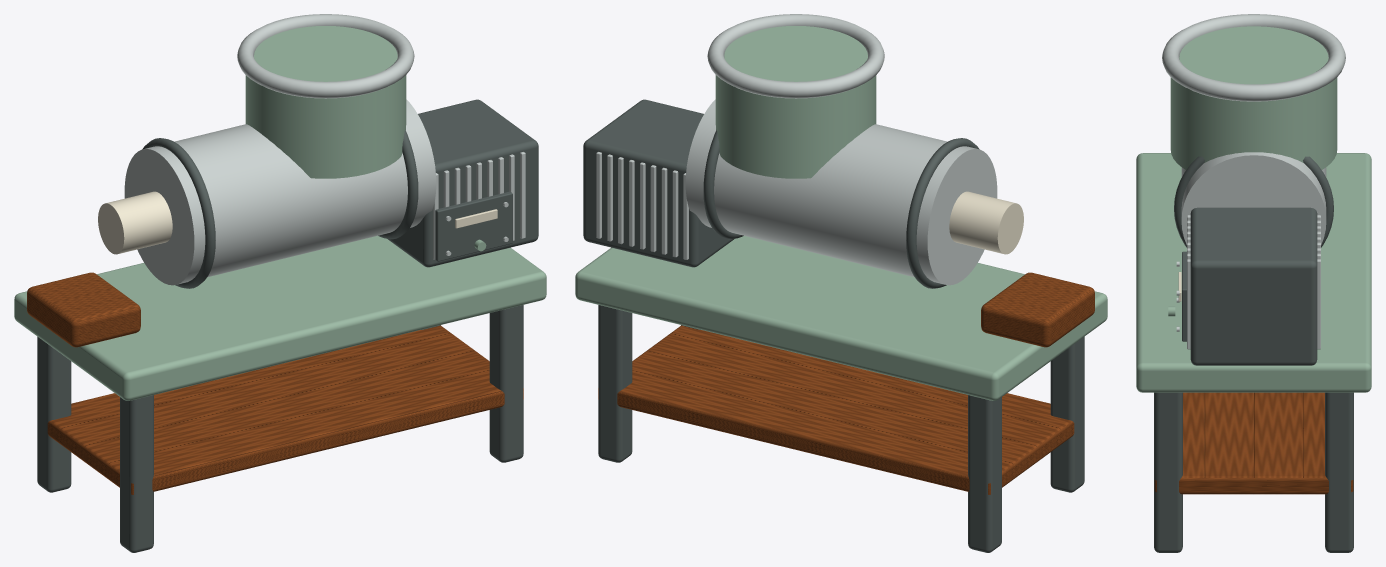
The model's file is ceramics-pottery-studio-clay-pugmill-01957a39__29484.glb.
3 views of the same model, side by side, from view 1: azimuth 30°, elevation 25°; view 2: azimuth 150°, elevation 25°; view 3: azimuth 270°, elevation 25° (orthographic). The views are drawn at different scales.
Visible parts, largest first — view 1: clay-pugmill; view 2: clay-pugmill; view 3: clay-pugmill.
Part boxes in pixels (<box>): clay-pugmill: <box>14,14,546,552</box>; clay-pugmill: <box>575,14,1107,552</box>; clay-pugmill: <box>1136,14,1371,552</box>.
Size of the model in its own units: 1.52 by 1.3 by 0.65.
5 materials, 1 textured.
